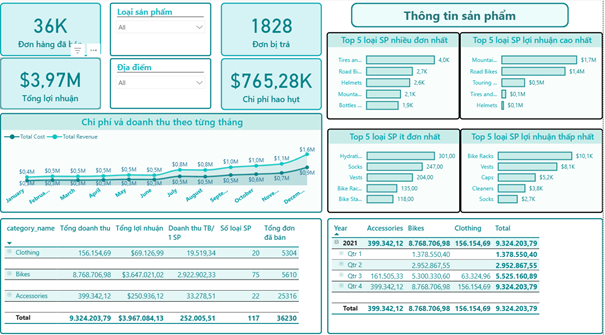

The page's visual inventory and layout, read from the dashboard file:
{"tool":"powerbi","page":{"name":"Page 1","canvas":[1280,720],"ordinal":0},"visuals":[{"type":"barChart","title":"Top 5 loại SP lợi nhuận cao nhất","fields":{"Category":["product_subcategories.subcategory_name"],"Y":["sales.Total Profit"]},"box":[976,71,303.7,185.8],"z":0},{"type":"barChart","title":"Top 5 loại SP ít đơn nhất","fields":{"Category":["product_subcategories.subcategory_name"],"Y":["sales.Total order"]},"box":[694,275.6,282.8,178.9],"z":1000},{"type":"barChart","title":"Top 5 loại SP lợi nhuận thấp nhất","fields":{"Category":["product_subcategories.subcategory_name"],"Y":["sales.Total Profit"]},"box":[976.7,275.6,303,178.9],"z":2000},{"type":"barChart","title":"Top 5 loại SP nhiều đơn nhất","fields":{"Category":["product_subcategories.subcategory_name"],"Y":["sales.Total order"]},"box":[693.5,71,282.5,185.8],"z":3000},{"type":"lineChart","title":"Chi phí và doanh thu theo từng tháng","fields":{"Y":["sales.Total Cost","sales.Total Revenue"],"Category":["Calendarr.Date.Variation.Date Hierarchy.Month","Calendarr.Date.Variation.Date Hierarchy.Day"]},"box":[0,242.4,683.9,212.1],"z":4000},{"type":"card","fields":{"Values":["customers.Total Items Purchased"]},"box":[0,9.1,214.5,113.3],"z":5000},{"type":"card","fields":{"Values":["sales.Total Profit"]},"box":[0,125.4,214.5,110.3],"z":6000},{"type":"slicer","fields":{"Values":["territories.continent","territories.country"]},"box":[233.7,127,215,108.2],"z":7000},{"type":"pivotTable","fields":{"Columns":["product_categories.category_name","product_subcategories.subcategory_name"],"Values":["sales.Revenue YDL"],"Rows":["Calendarr.Date.Variation.Date Hierarchy.Year","Calendarr.Date.Variation.Date Hierarchy.Quarter","Calendarr.Date.Variation.Date Hierarchy.Month","Calendarr.Date.Variation.Date Hierarchy.Day"]},"box":[694.5,466.3,585.3,246.6],"z":8000},{"type":"pivotTable","fields":{"Values":["sales.Revenue YDL","sales.Total Profit","sales.Avg Revenue per Model","customers.Unique Products Purchased","customers.Total Items Purchased"],"Rows":["product_categories.category_name","product_subcategories.subcategory_name","products.product_name"]},"box":[0,466.3,683.4,246.6],"z":9000},{"type":"shape","box":[744.9,9.1,462.3,52.9],"z":10000},{"type":"card","fields":{"Values":["returns.Total Returns"]},"box":[468.4,9.1,214.5,113.3],"z":11000},{"type":"card","fields":{"Values":["returns.Lost Revenue"]},"box":[468.4,126.9,214.5,110.3],"z":12000},{"type":"slicer","fields":{"Values":["product_categories.category_name"]},"box":[233.7,8.7,215,114],"z":13000}]}

Visuals, with their boxes in screenshot pixels (x1, y1, x2, y2), scaled from the page's 1280x720 canvas onto the 605x335 screenshot:
"Top 5 loại SP lợi nhuận cao nhất" barChart: bbox(461, 33, 604, 119)
"Top 5 loại SP ít đơn nhất" barChart: bbox(328, 128, 462, 211)
"Top 5 loại SP lợi nhuận thấp nhất" barChart: bbox(462, 128, 604, 211)
"Top 5 loại SP nhiều đơn nhất" barChart: bbox(328, 33, 461, 119)
"Chi phí và doanh thu theo từng tháng" lineChart: bbox(0, 113, 323, 211)
card - customers.Total Items Purchased: bbox(0, 4, 101, 57)
card - sales.Total Profit: bbox(0, 58, 101, 110)
slicer - territories.continent x territories.country: bbox(110, 59, 212, 109)
pivotTable - product_categories.category_name x product_subcategories.subcategory_name: bbox(328, 217, 604, 332)
pivotTable - sales.Revenue YDL x sales.Total Profit: bbox(0, 217, 323, 332)
shape: bbox(352, 4, 571, 29)
card - returns.Total Returns: bbox(221, 4, 323, 57)
card - returns.Lost Revenue: bbox(221, 59, 323, 110)
slicer - product_categories.category_name: bbox(110, 4, 212, 57)
